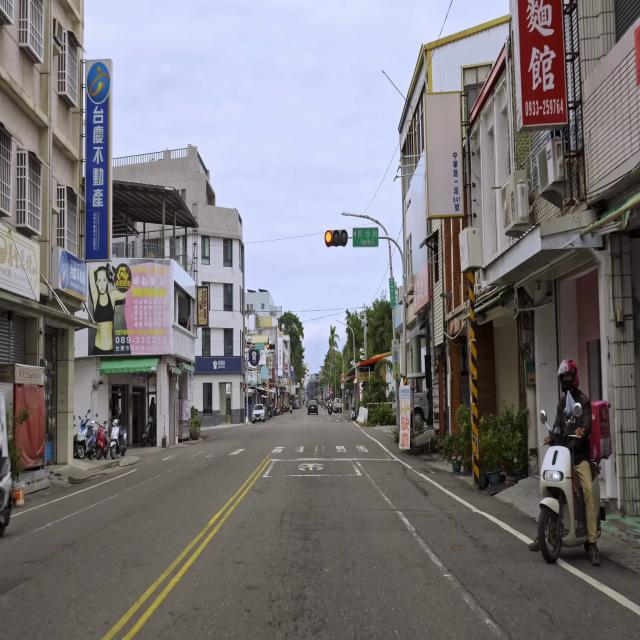red light: (324, 229, 348, 247), (266, 344, 276, 350)
